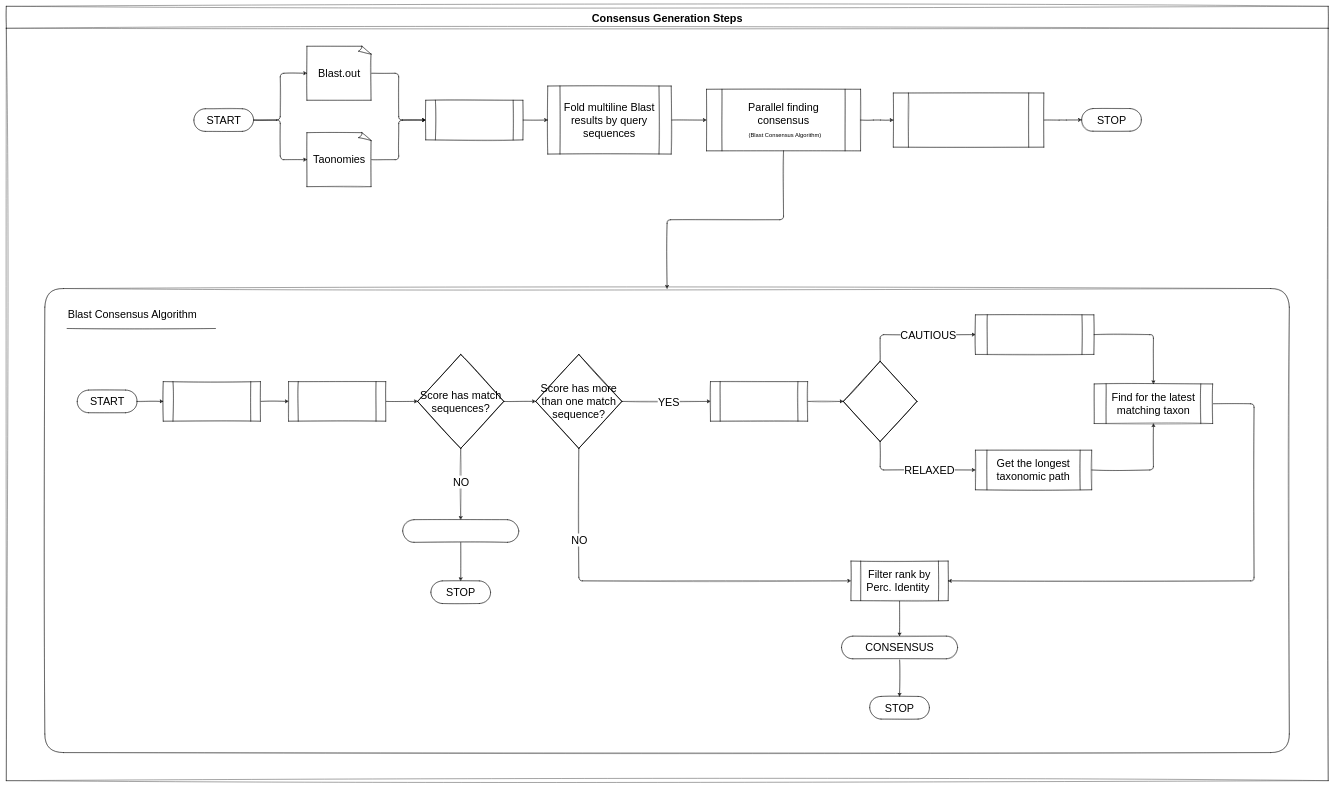
This 1335x787 diagram has some shape labels left out. Each missing label, with the centre of its shape:
"Descending sort results by bit-score" goes at (x=337, y=401).
"Find multi-taxa consensus" goes at (x=759, y=401).
"Fold results by bit-score" goes at (x=211, y=401).
"Get the shortest taxonomic path" goes at (x=1034, y=334).
"Join files by Subject" goes at (x=474, y=120).
"NO_CONSENSUS" goes at (x=460, y=530).
"Persist output to blutils.consensus.json" goes at (x=968, y=120).
"What strategy to use?" goes at (x=880, y=401).
